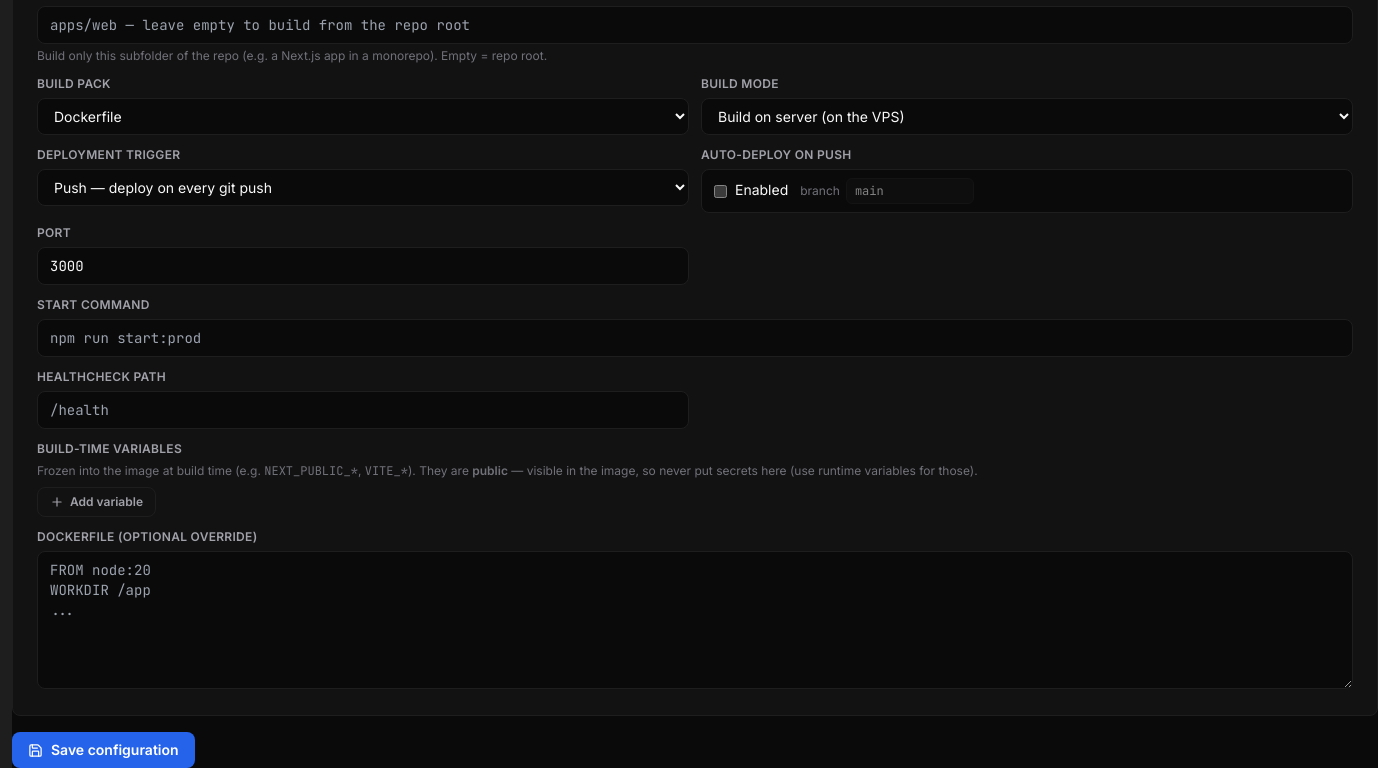
it: ServiceConfigForm — root directory + build-time variables › flags a malformed variable key without blocking the field
(page scrolled)
Click the button "Add variable": (96, 502) [37,487,156,517]
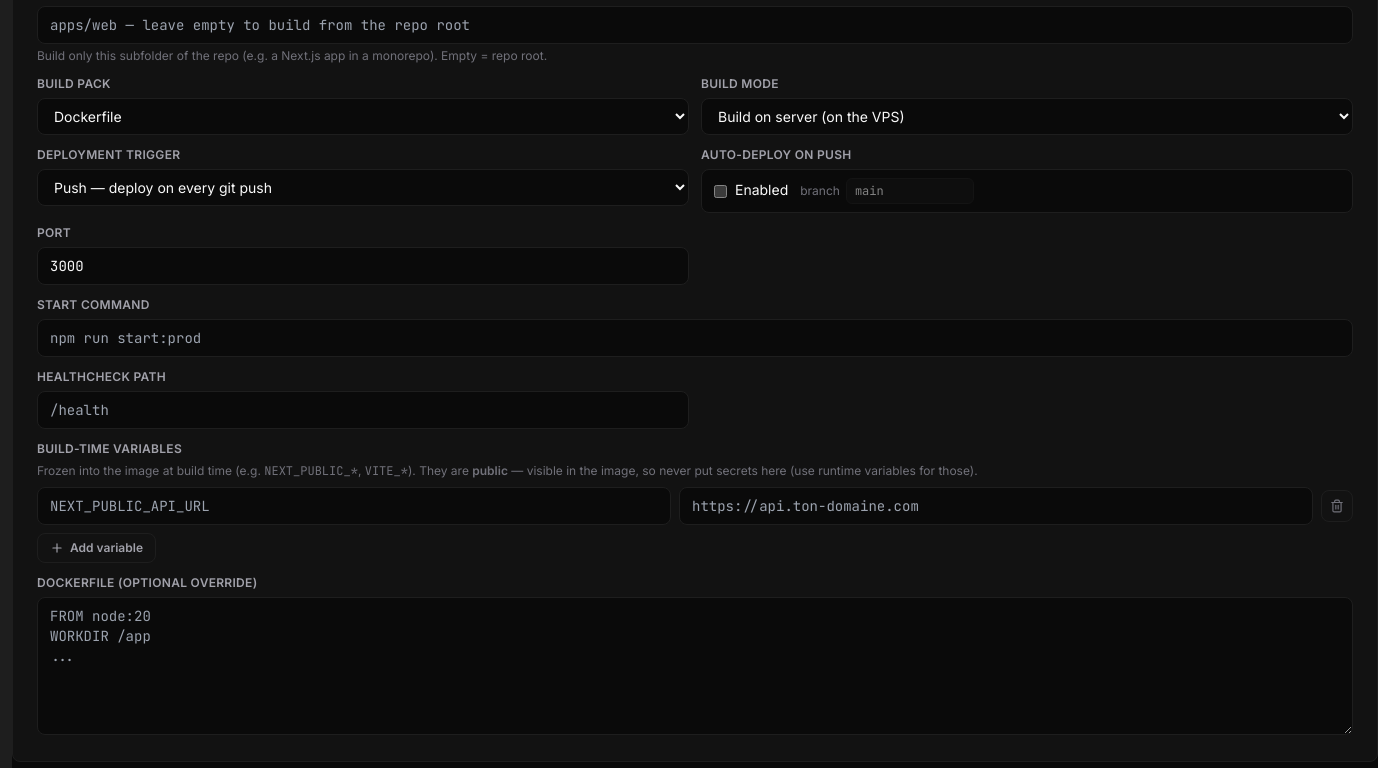
In the field with placeholder "NEXT_PUBLIC_API_URL": (354, 506) [37,487,671,525], type "FOO BAR"
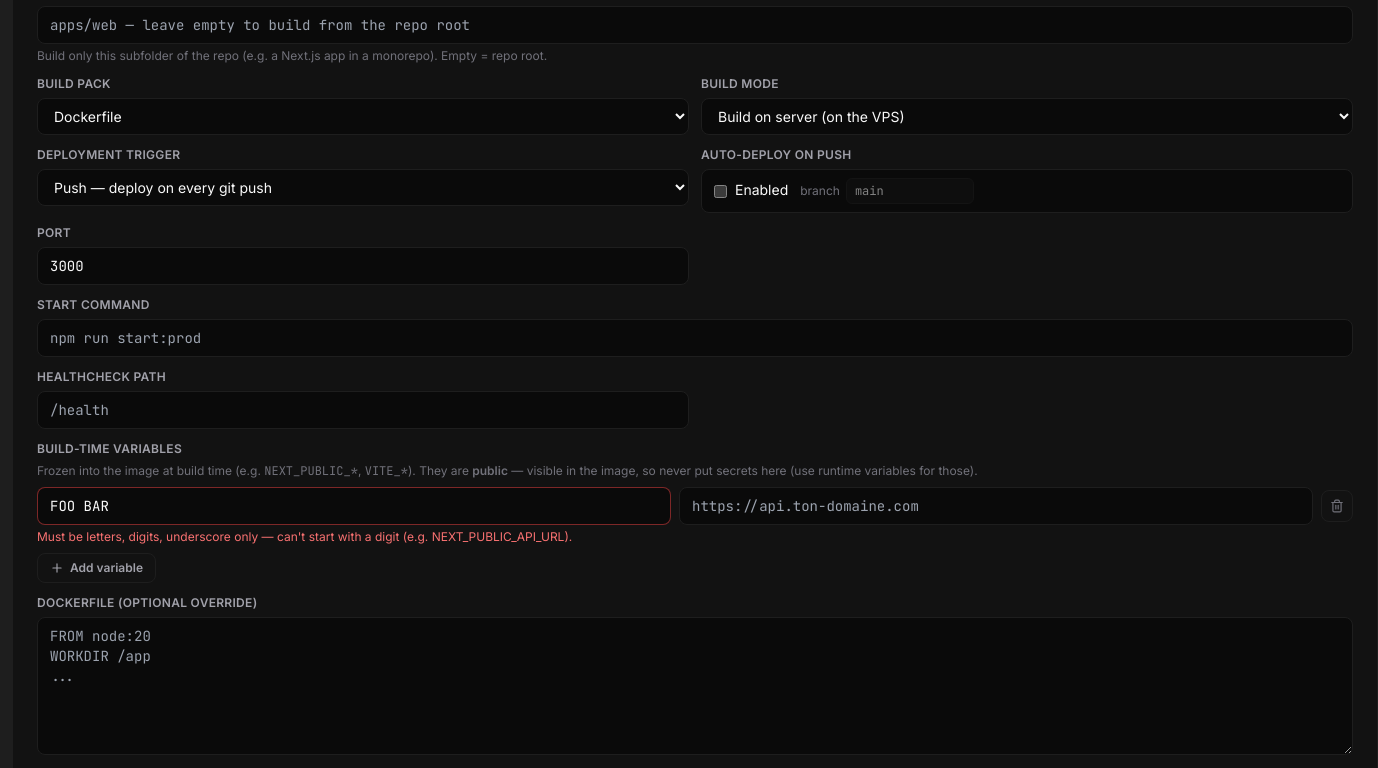
Expected: the text "Must be letters, digits, underscore only" is shown, [37,529,572,544]
